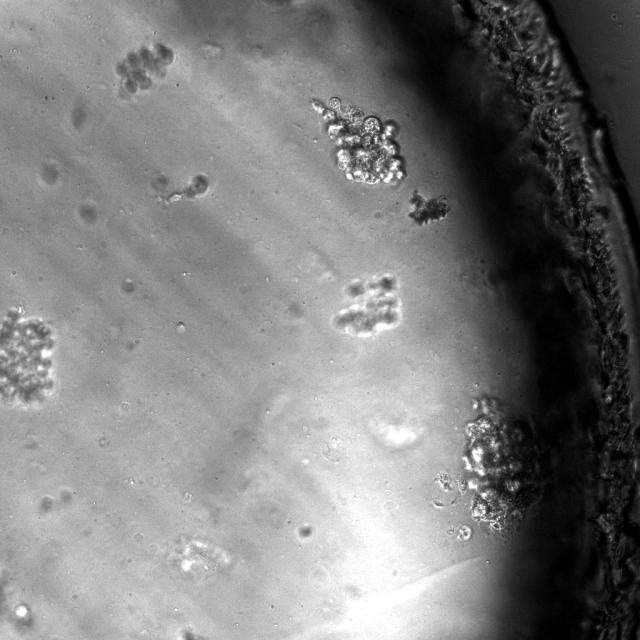organoid: (458, 398, 539, 537), (313, 97, 406, 185), (312, 97, 406, 184), (0, 307, 54, 405), (332, 274, 401, 337), (115, 43, 174, 97), (408, 188, 450, 225), (184, 173, 209, 197)
